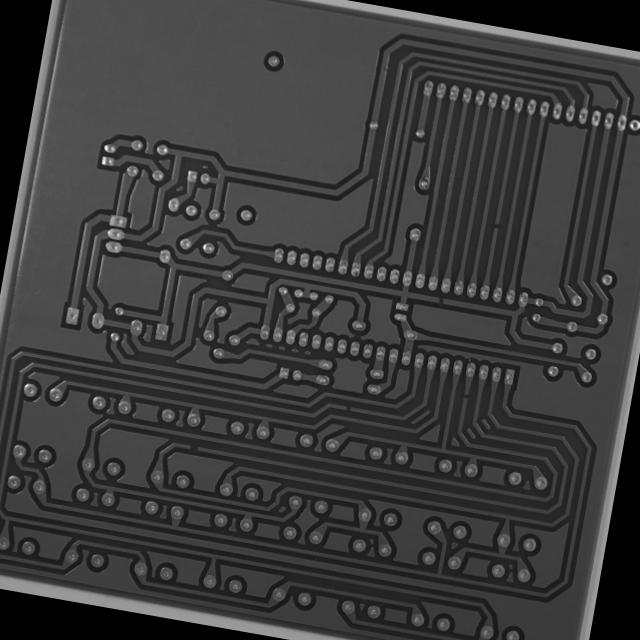open_circuit: (187, 441, 200, 454), (490, 218, 502, 232), (433, 294, 447, 306), (460, 389, 470, 402), (342, 402, 352, 413)
